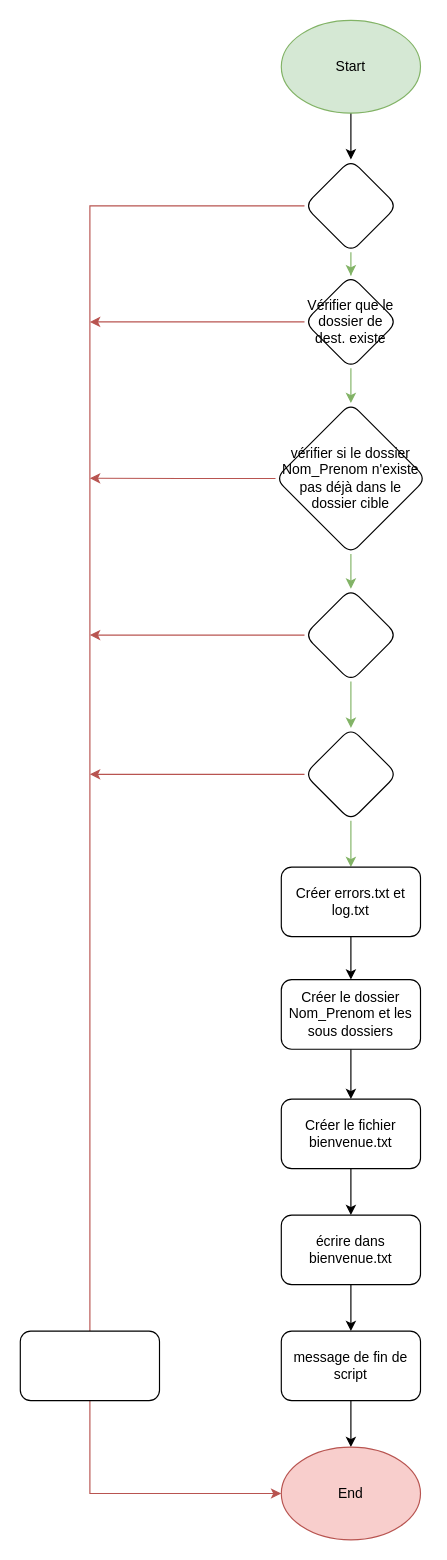
The diagram is 447 pixels wide and 1560 high, and some of its shapes have lost their labels. The centre of each missing label's shape, as x and y in pixels:
"Indiquer message d'erreur" goes at point 89,1365.
"paramètres corrects ?" goes at point 350,205.
"Vérifier que le dossier Templates existe" goes at point 350,635.
"Vérifier que Template contient charte et checklist" goes at point 350,774.
